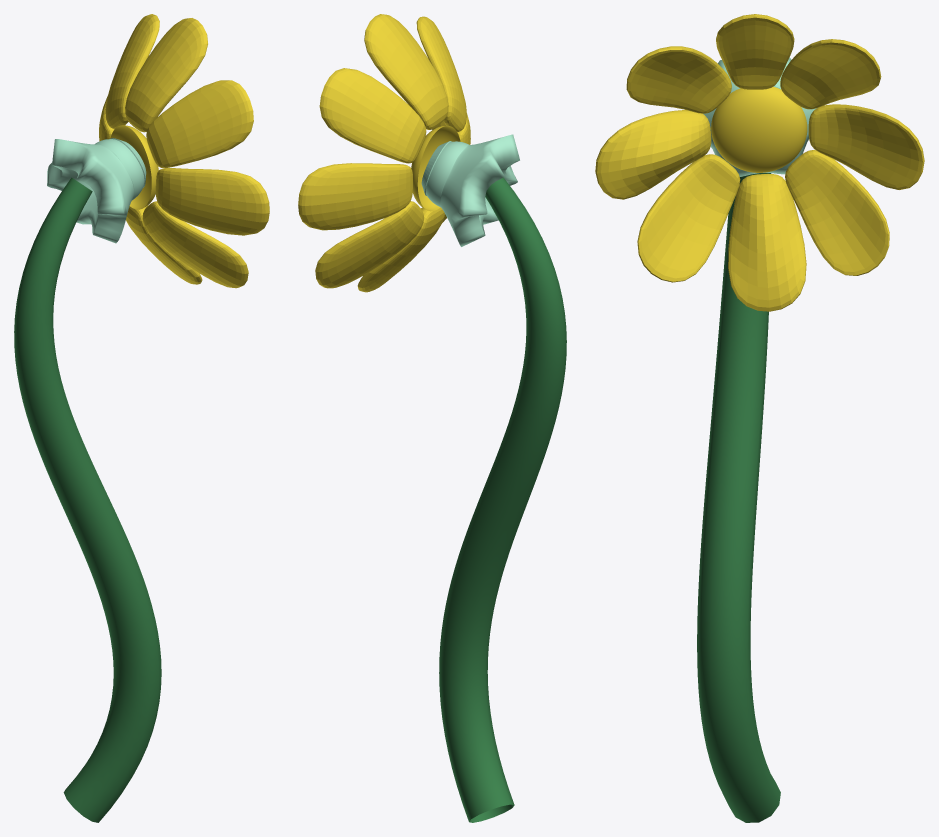
3 views of the same model, side by side, from view 1: azimuth 30°, elevation 25°; view 2: azimuth 150°, elevation 25°; view 3: azimuth 270°, elevation 25° (orthographic). The views are drawn at different scales.
Parts seen in each view (by area): view 1: NurbsPath.003, Plane.002, Circle.013; view 2: NurbsPath.003, Plane.002, Circle.013; view 3: Plane.002, NurbsPath.003, Circle.013.
Boxes of the visible parts, x1,y1,x2,y2 form: NurbsPath.003: (14,177,161,822); Plane.002: (99,14,269,288); Circle.013: (47,138,146,243); NurbsPath.003: (439,177,566,822); Plane.002: (298,14,470,292); Circle.013: (421,134,519,246); Plane.002: (595,14,924,311); NurbsPath.003: (697,173,780,822); Circle.013: (703,57,816,176).
Size of the model in its own units: 265 by 1055 by 365.
